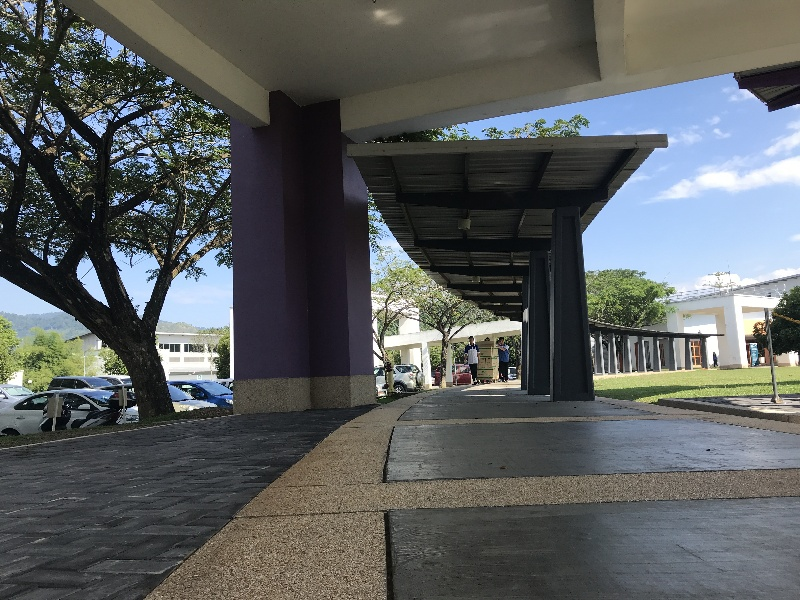Block D Pillar 6: (1, 6, 799, 549)
pillar: (204, 76, 396, 426), (544, 203, 599, 406), (514, 244, 553, 408)
